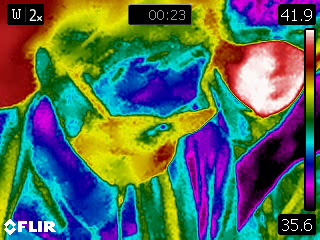human: (1, 4, 227, 240), (208, 1, 320, 240)
